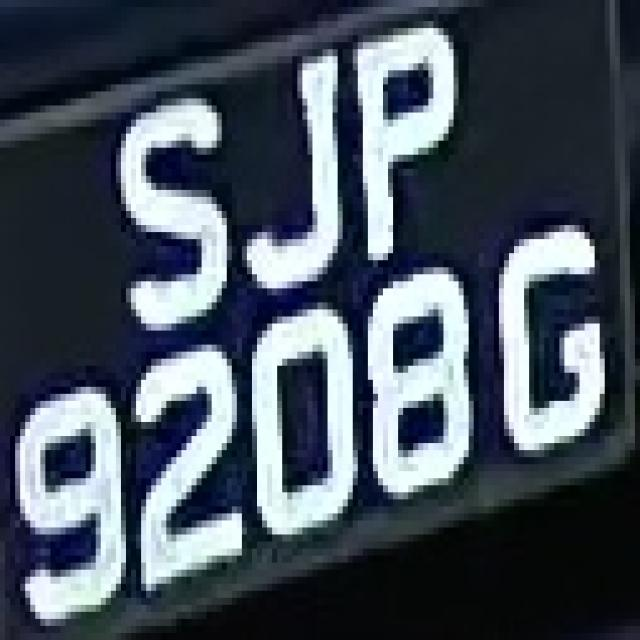0: (227, 281, 368, 549)
2: (116, 330, 257, 598)
8: (363, 246, 489, 521)
9: (0, 4, 1, 7)
G: (484, 197, 615, 464)
J: (216, 49, 348, 296)
P: (328, 21, 473, 267)
S: (96, 56, 242, 345)
